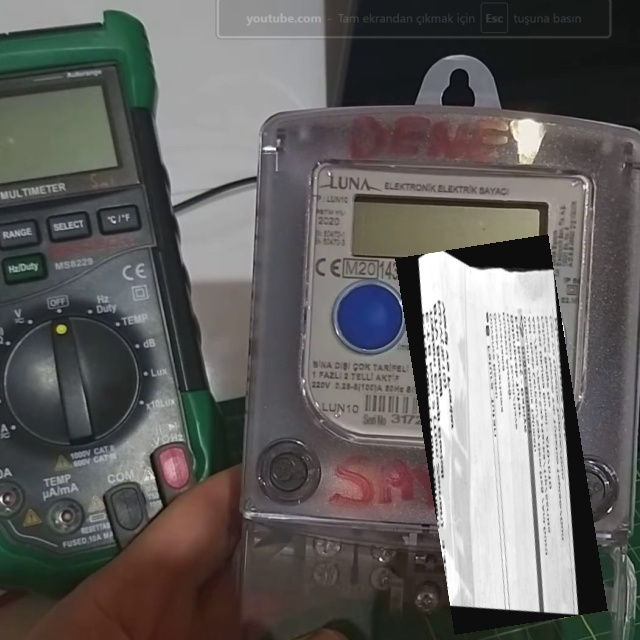electricity-bill: (395, 233, 608, 635)
